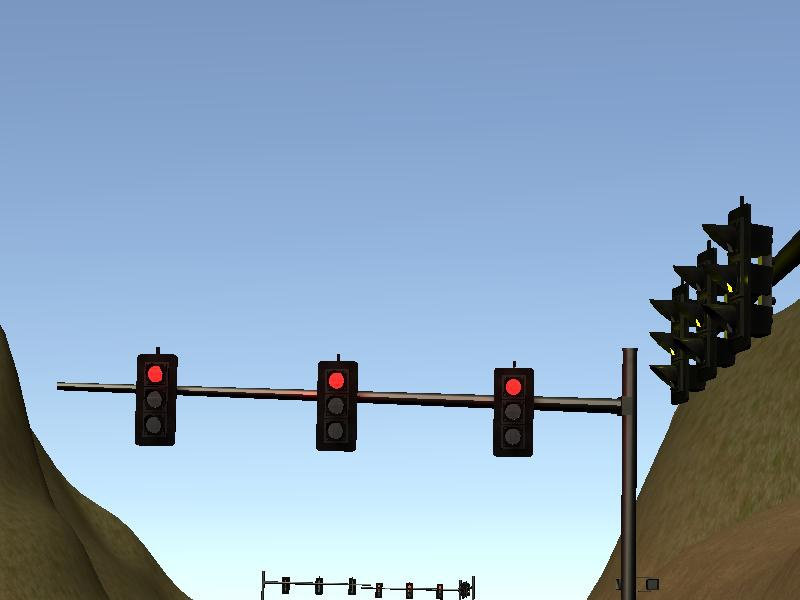Red: (491, 366, 538, 460), (313, 359, 360, 453), (132, 353, 179, 447)
